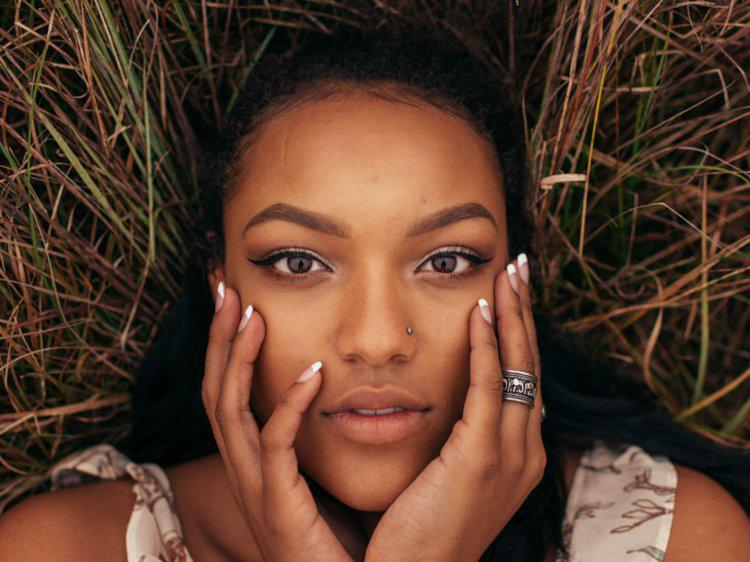Sober: (239, 130, 481, 456)
